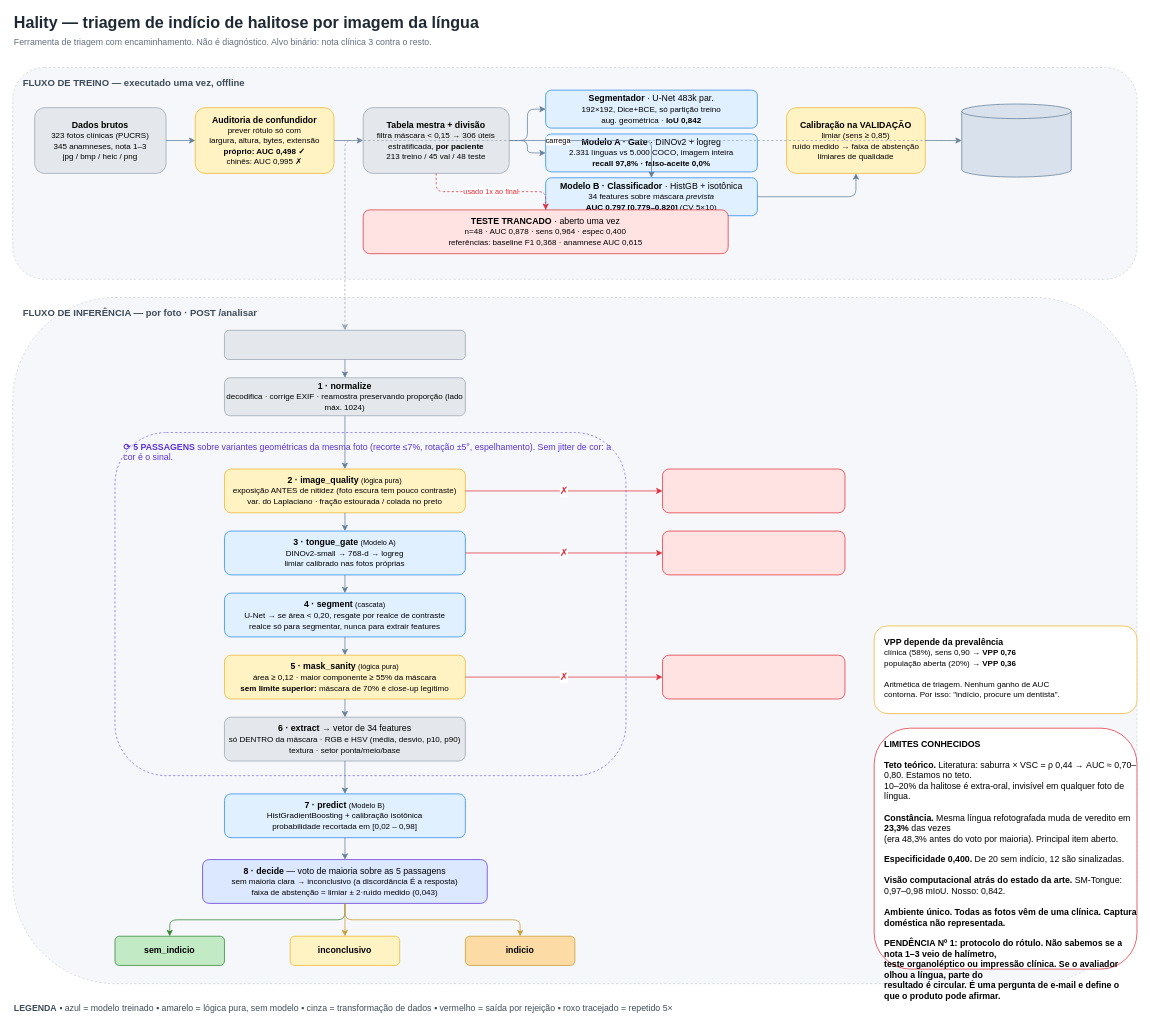
Image size: 1150x1026. Some labels were removed from this diagram. The box of each missing label's shape, as (x1, y1, x2, y2) in pixels:
foto (bytes) · jpg / png / bmp / heic · ≤ 20 MB: (224, 330, 465, 360)
models/ segmentador.pt gate.pkl classificador.pkl sam/ (ViT-B + ONNX): (961, 103, 1071, 177)
rejeitado "aproxime a câmera" / "não consegui delimitar": (662, 654, 845, 699)
rejeitado "muito escura" / "muito clara" / "tremida": (662, 468, 845, 513)
rejeitado "não identifiquei uma língua": (662, 530, 845, 575)
